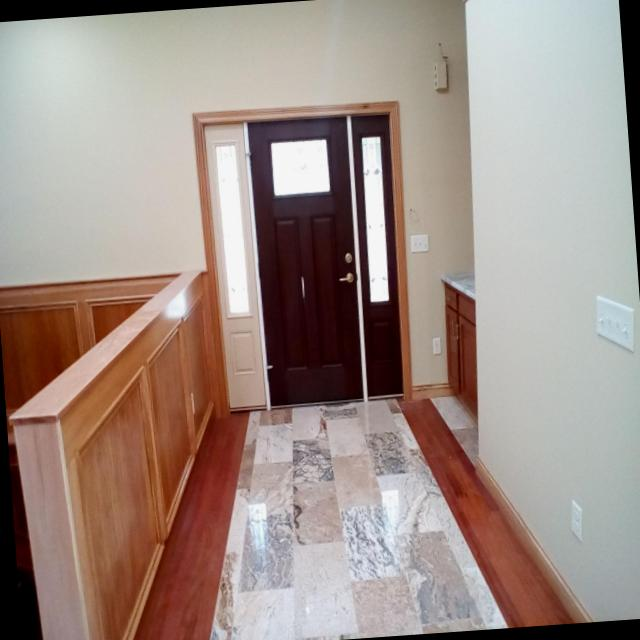door: (192, 102, 412, 413)
